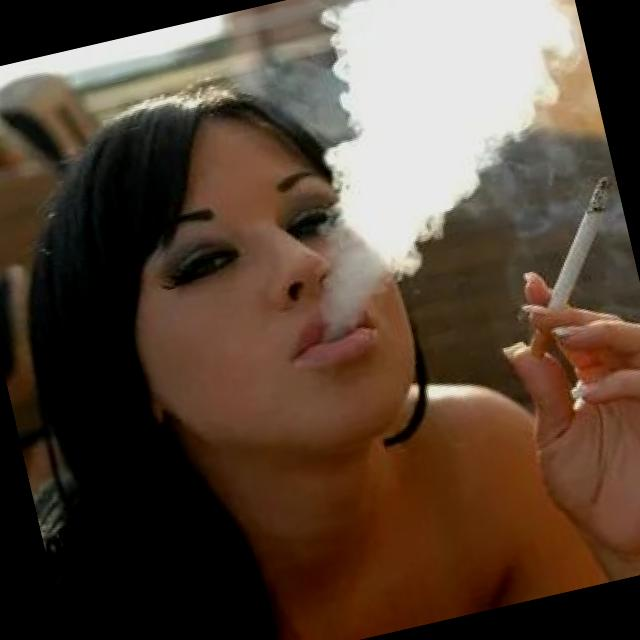cigarette: (496, 170, 640, 355)
